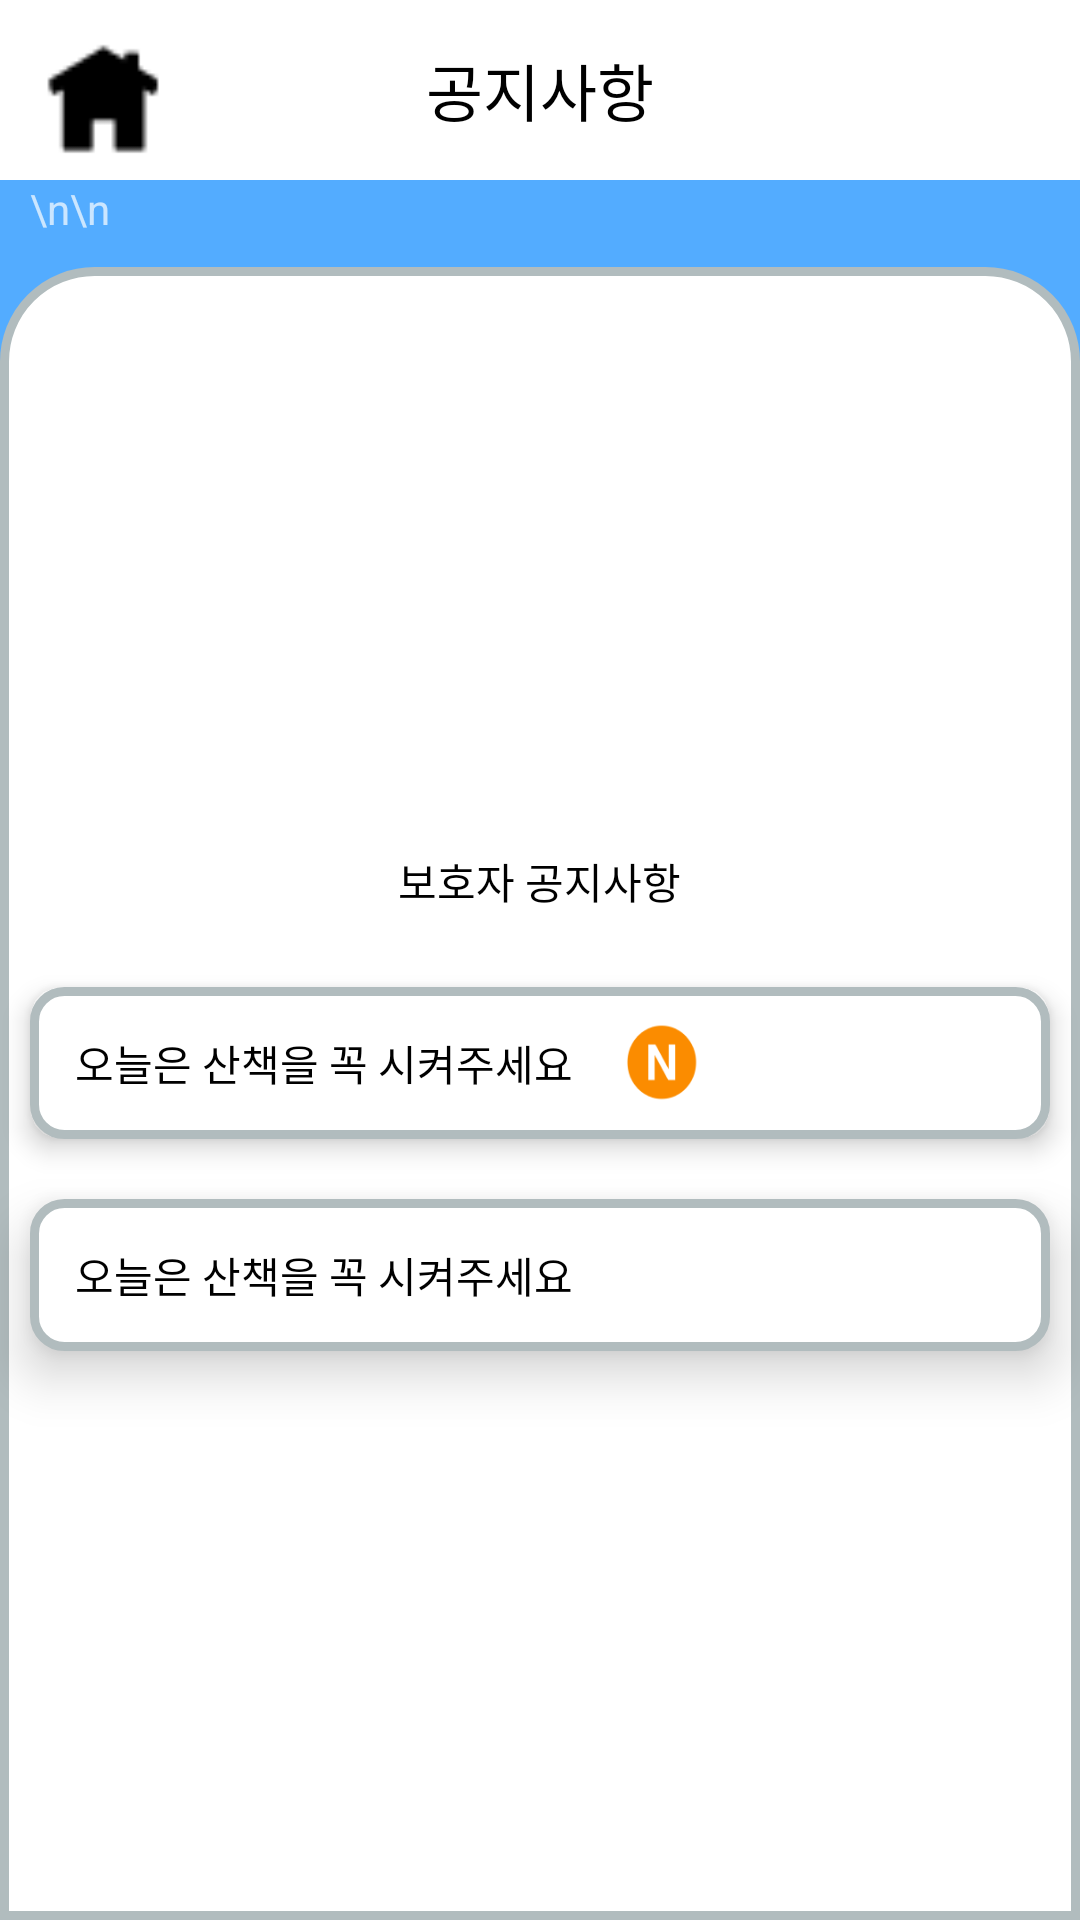

Screen size 1080w x 1920h. Icon name, then its box in pixels as (x1, y1, x2, y2):
btnhome: (47, 45, 159, 153)
notinew: (627, 1025, 697, 1100)
